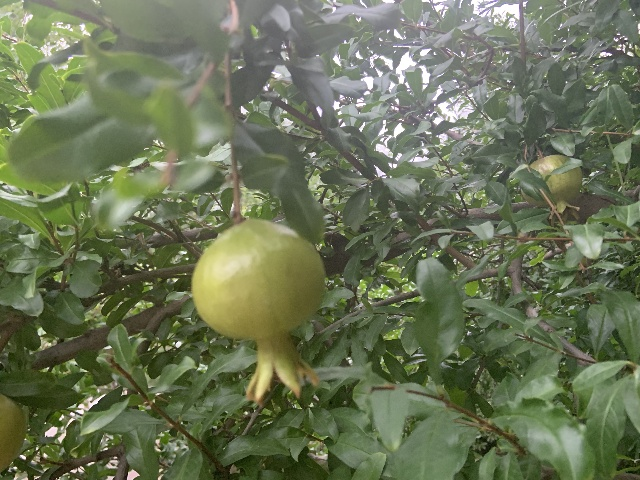mid-growth: (190, 219, 326, 404), (520, 154, 582, 226)
